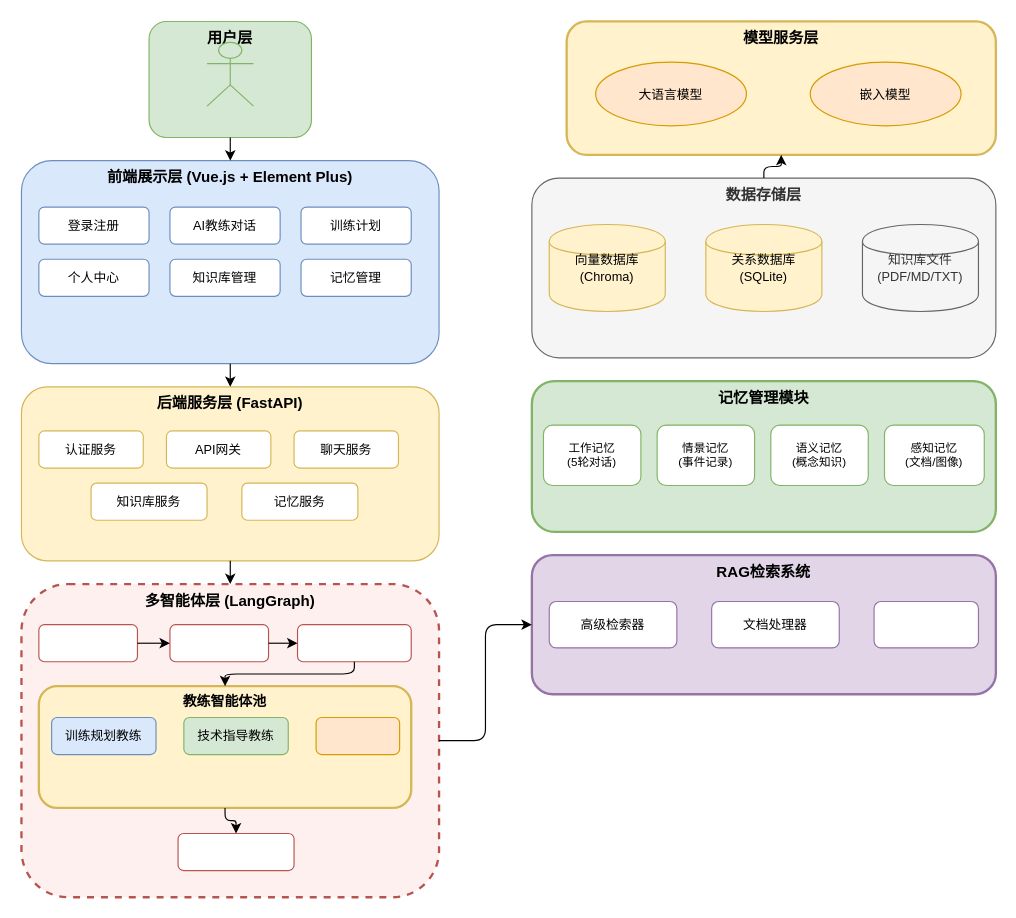
The diagram is 1016 pixels wide and 918 high, and some of its shapes have lost their labels. Here are the shapes that lost their labels. From the top down, the centre of each, then its label:
At (229,73): "用户".
At (87,643): "请求路由器".
At (219,643): "工作流引擎".
At (353,643): "执行计划构建器".
At (925,624): "向量存储服务".
At (357,735): "运动康复教练".
At (235,851): "综合输出器".
